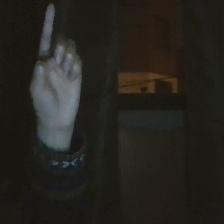D: (23, 2, 96, 133)
